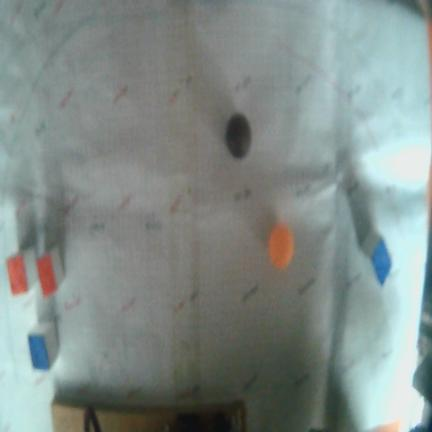circle_blue: (225, 113, 251, 158)
circle_orange: (268, 223, 294, 269)
rectangle_blue: (370, 235, 393, 288)
rectangle_orange: (39, 255, 58, 297)
square_blue: (29, 335, 49, 368)
square_orange: (7, 257, 30, 293)
